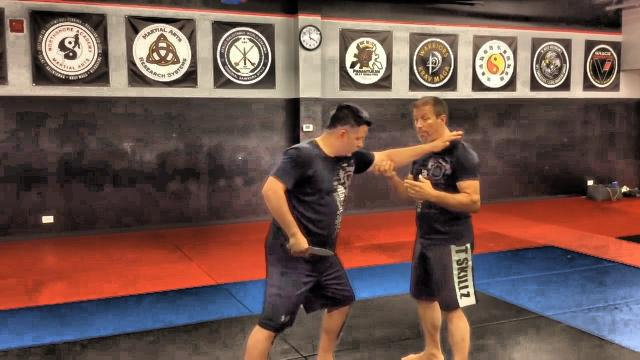knife: (284, 239, 336, 257)
